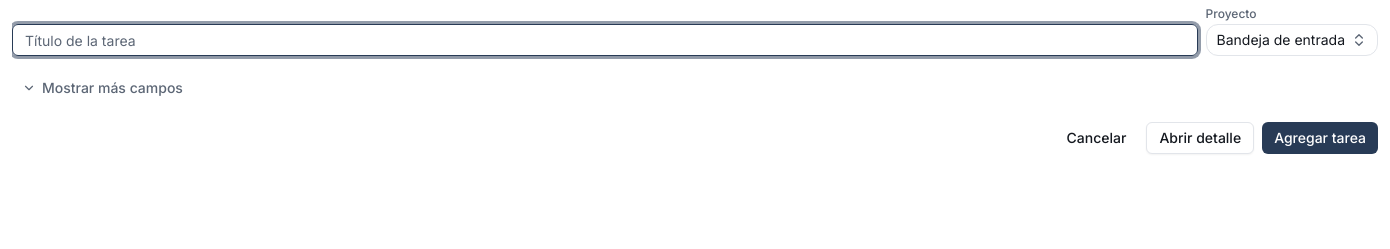
Scenario: TaskQuickAddRow — componente de alta rico (bloque 5) › desplegar el modal global muestra el resto de los campos (D-C)
Click the button "Mostrar más campos" at (102, 88), box 12,72 -> 193,104
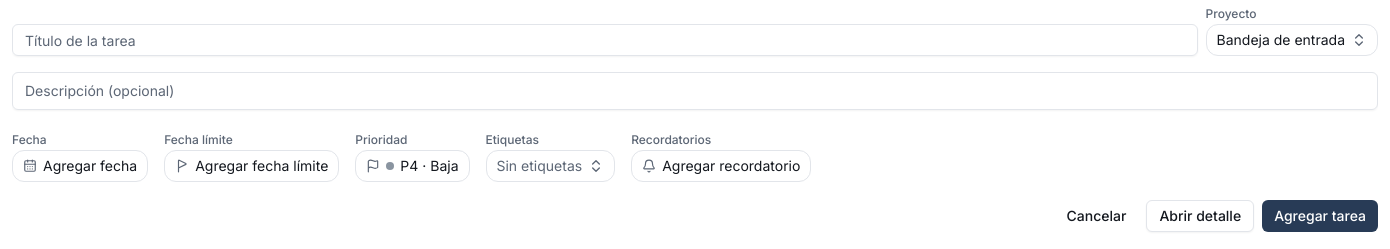
Expected: the text box named "Descripción de la nueva tarea" is shown, 12,72 -> 1378,110
Expected: the button with aria-label "Fecha de vencimiento" is shown, 12,150 -> 148,182
Expected: the button "Agregar fecha límite" is shown, 164,150 -> 339,182
